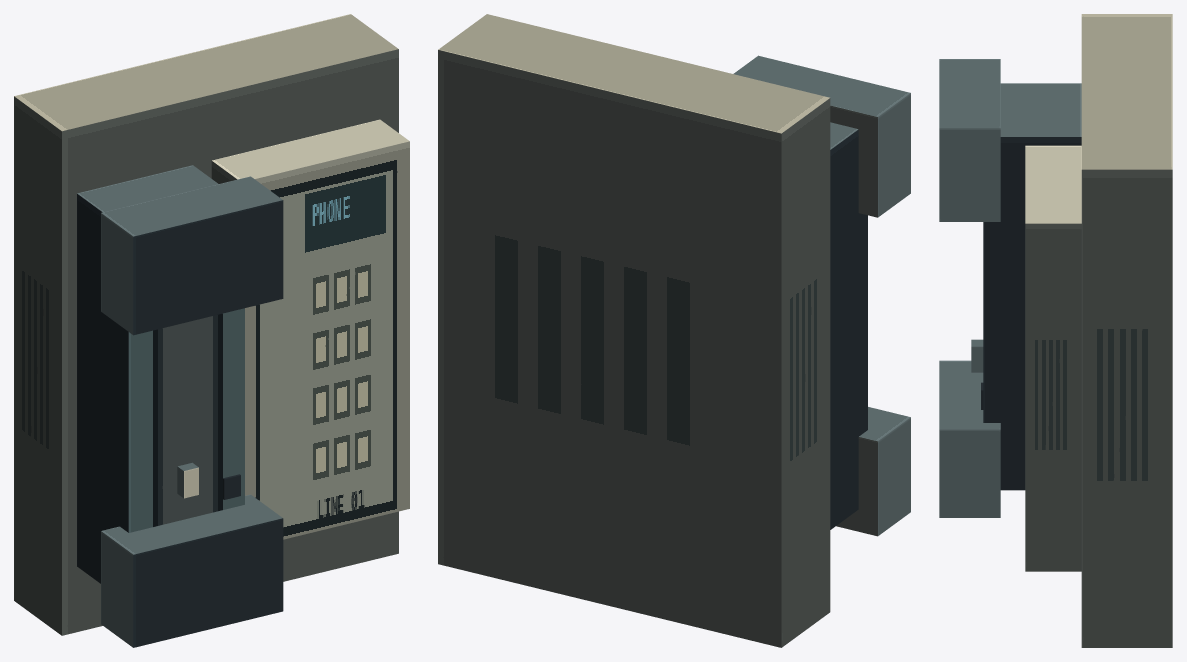
Rendered from telefono_pared.glb.
3 renders of one model, left to right at view 1: azimuth 30°, elevation 25°; view 2: azimuth 150°, elevation 25°; view 3: azimuth 270°, elevation 25°, orthographic. The views are drawn at different scales.
Visible parts, largest first — view 1: EQUIPO; view 2: EQUIPO; view 3: EQUIPO.
Part boxes in pixels (<box>): EQUIPO: <box>14,14,409,647</box>; EQUIPO: <box>438,14,910,647</box>; EQUIPO: <box>939,14,1172,647</box>.
Bounding box in the file's own units: 0.3467 × 0.4907 × 0.2172.
1 material, 1 textured.
